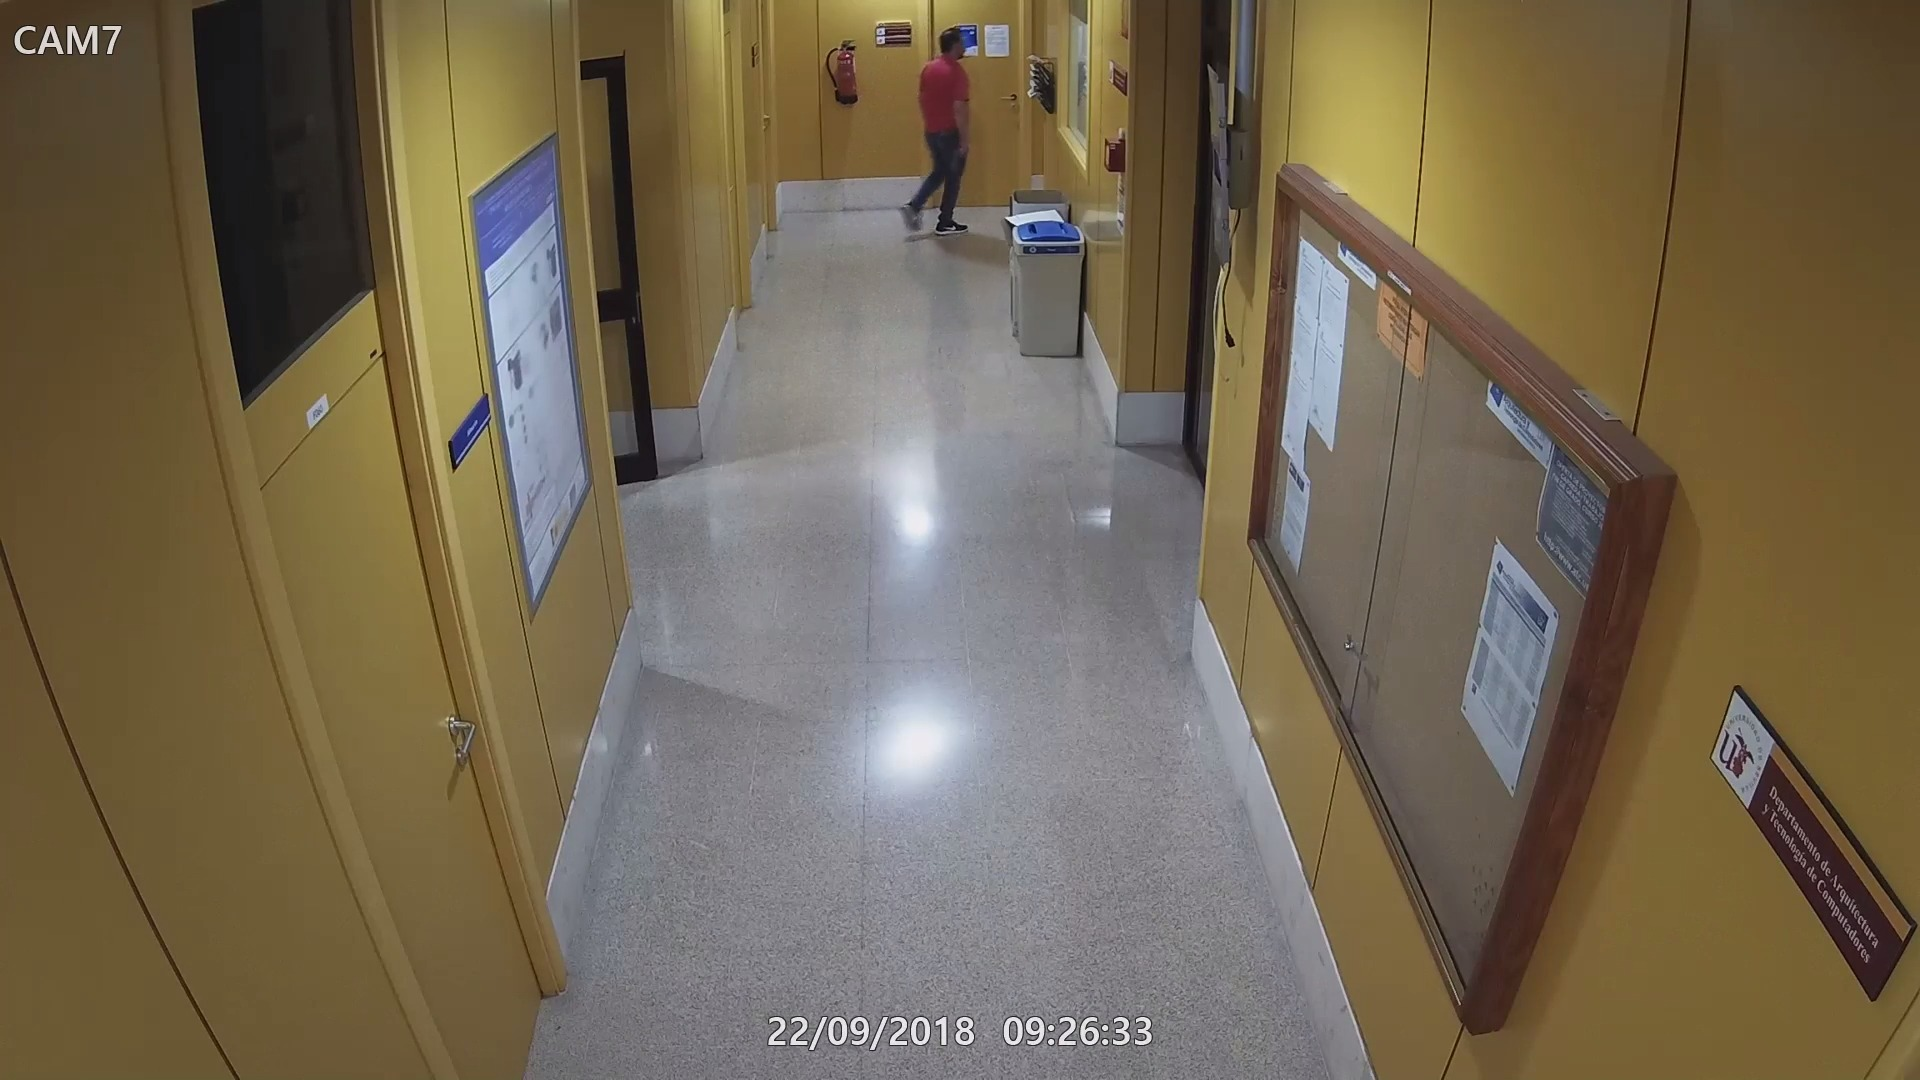Handgun: (947, 140, 973, 175)
